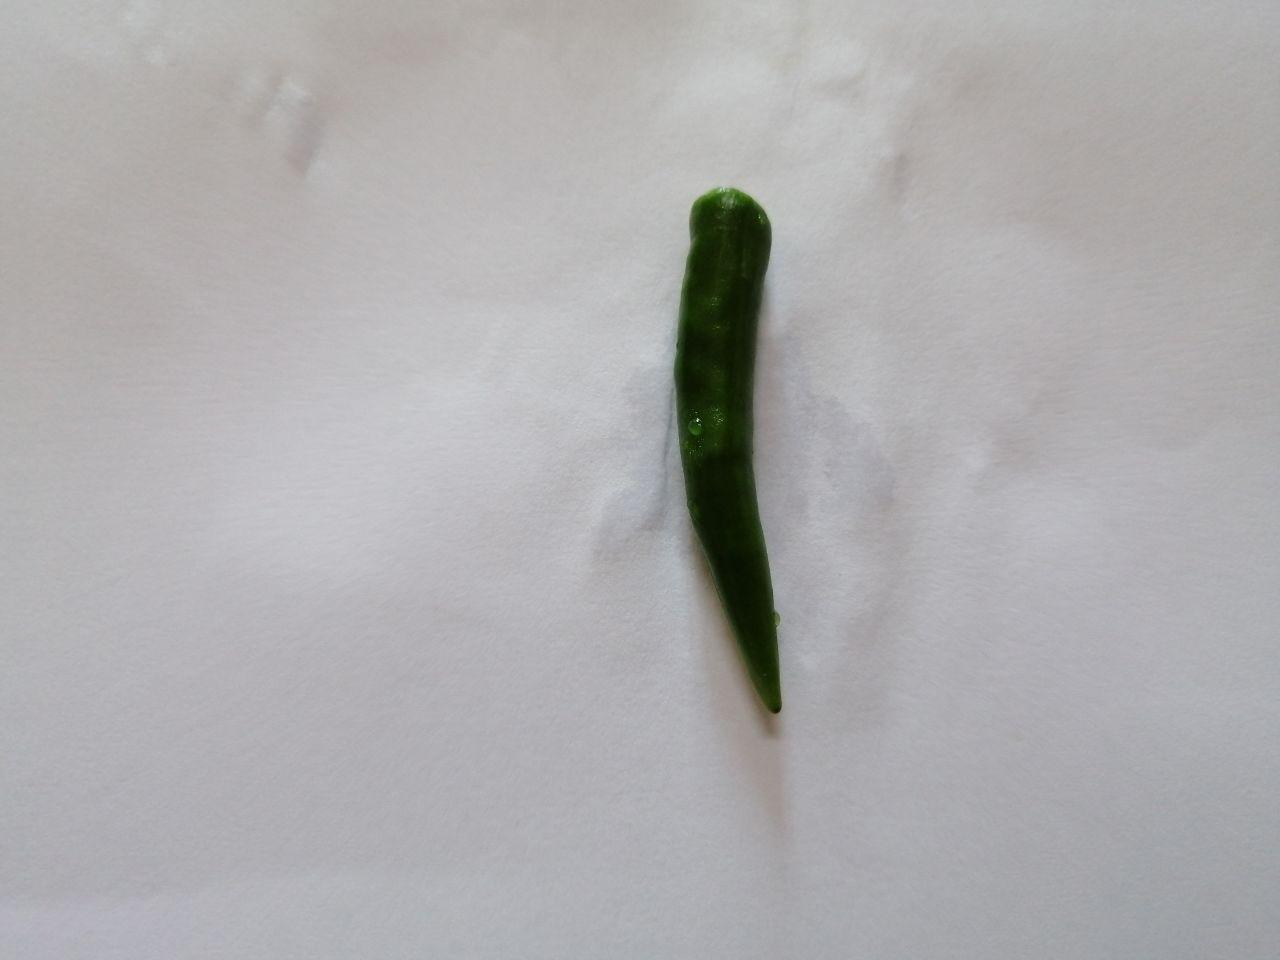lada hijau: (627, 158, 869, 733)
